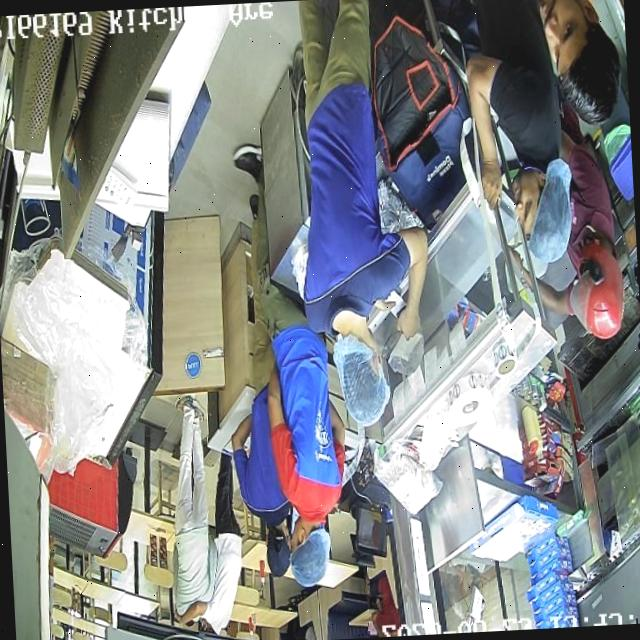helmet: (569, 246, 626, 344)
